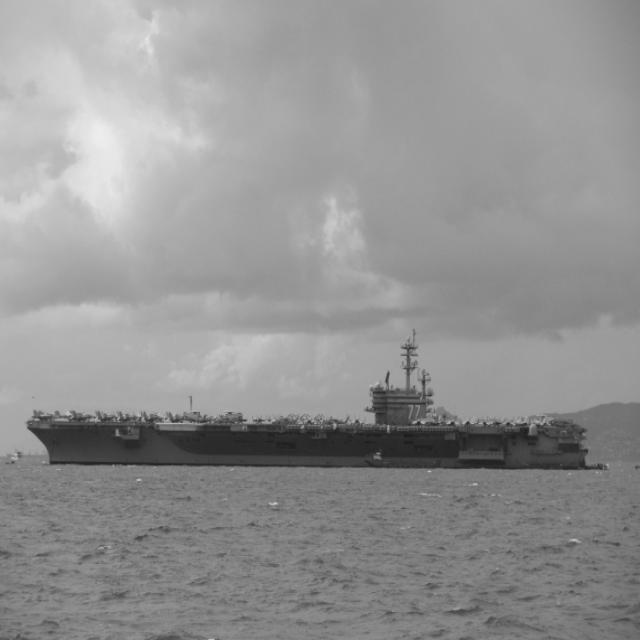Portanaves: (25, 323, 602, 469)
